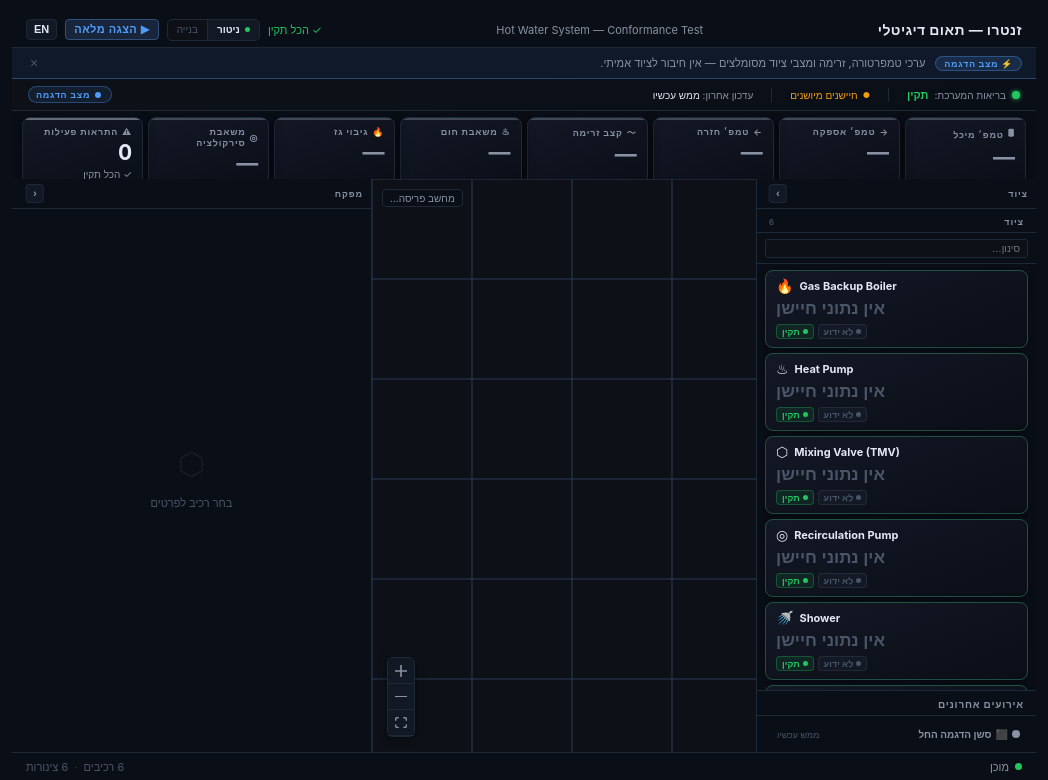
Test: Build Mode › entering Build Mode renders palette panel
Click the button with test id "mode-build-btn": (187, 30) [168, 20, 207, 40]
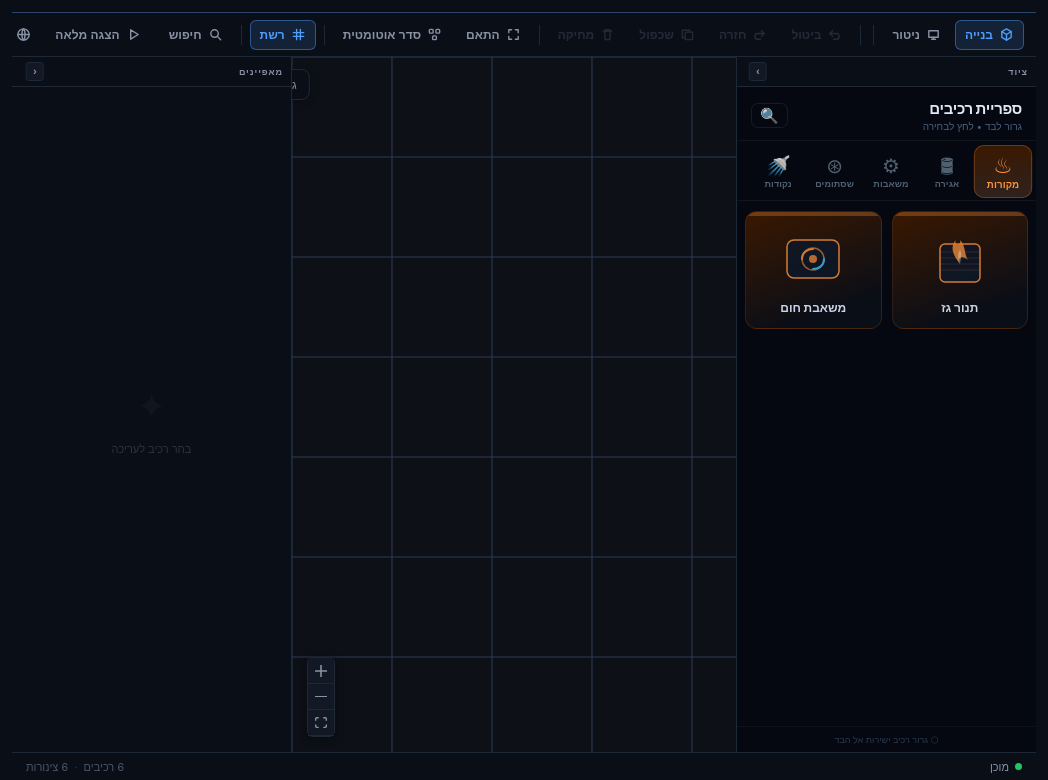
Now the element with test id "builder-palette" is shown, box [737, 87, 1036, 752]
